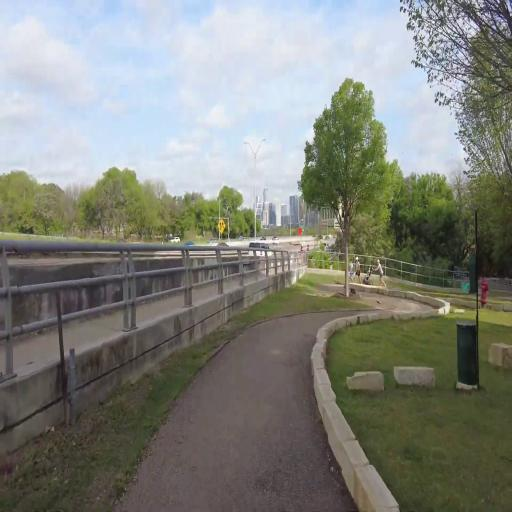Street_Light: (242, 133, 268, 242)
